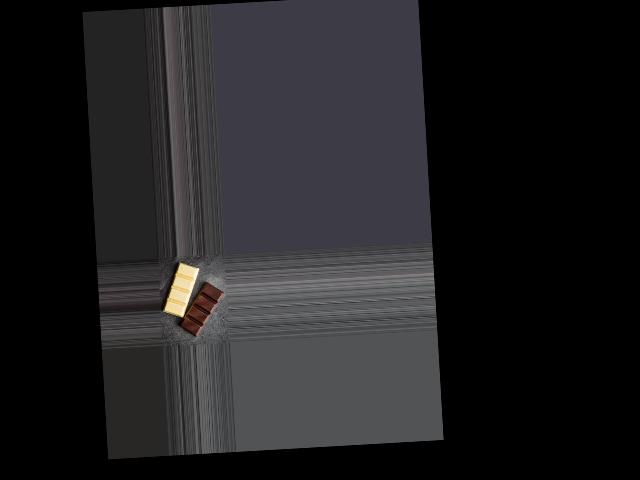chocolate: (160, 256, 224, 338)
